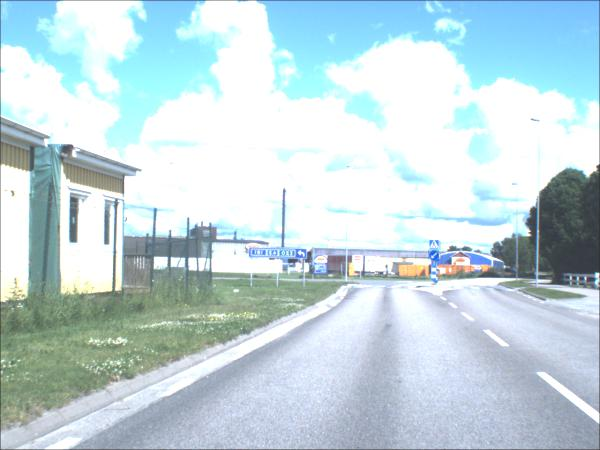PASS_RIGHT_SIDE: (428, 251, 440, 263)
PEDESTRIAN_CROSSING: (429, 241, 439, 252)
